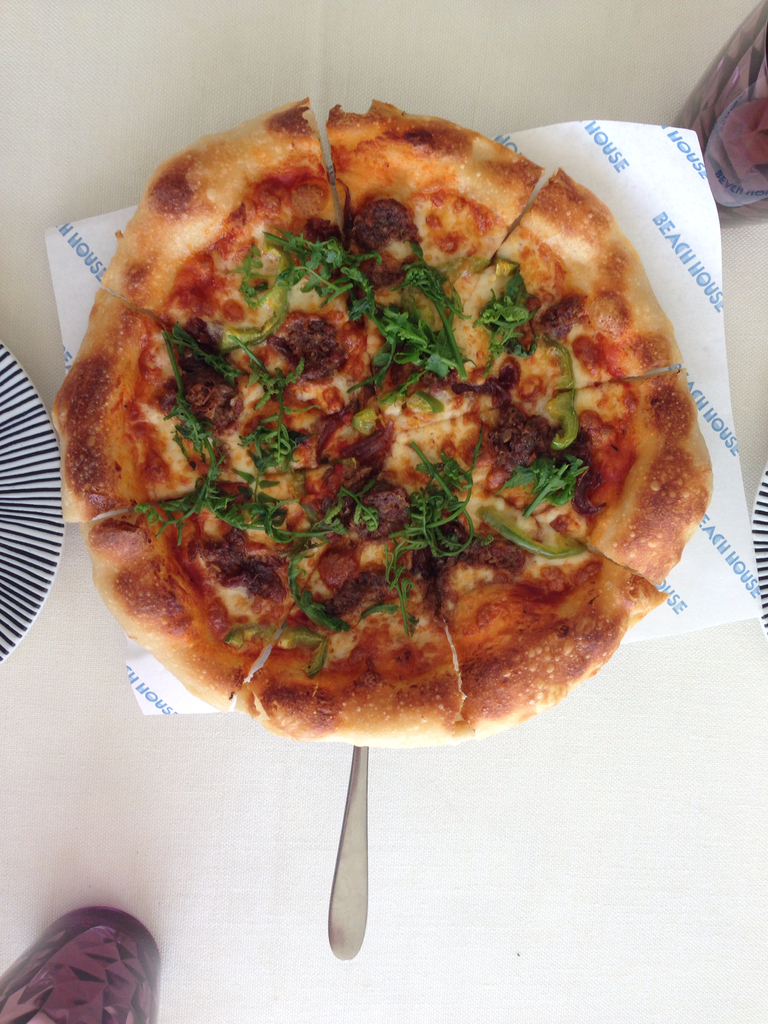Pizza: (81, 92, 731, 788)
